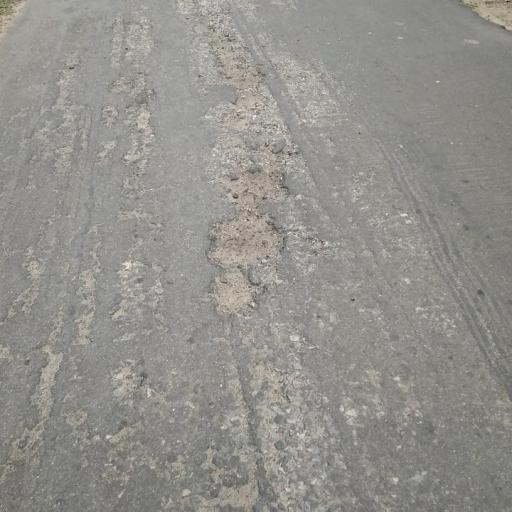pothole: (208, 32, 270, 112), (202, 210, 289, 266), (214, 167, 293, 207), (207, 265, 264, 320), (27, 341, 67, 418), (210, 476, 262, 510), (108, 362, 144, 400)
